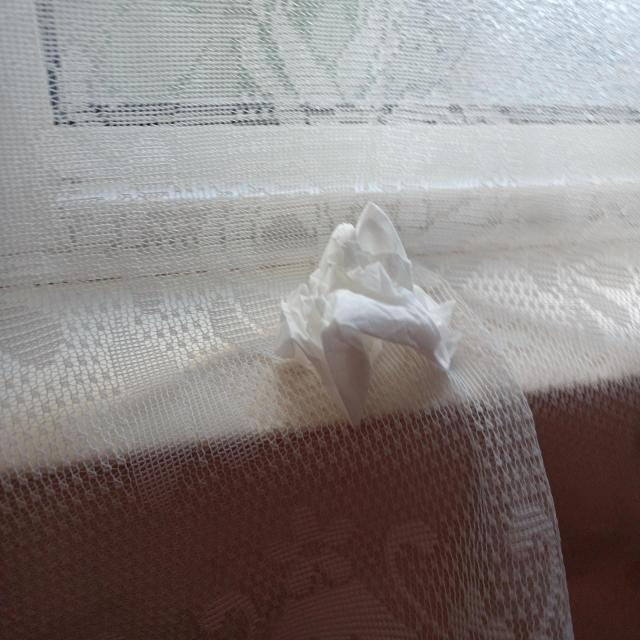Paper: (273, 196, 456, 454)
